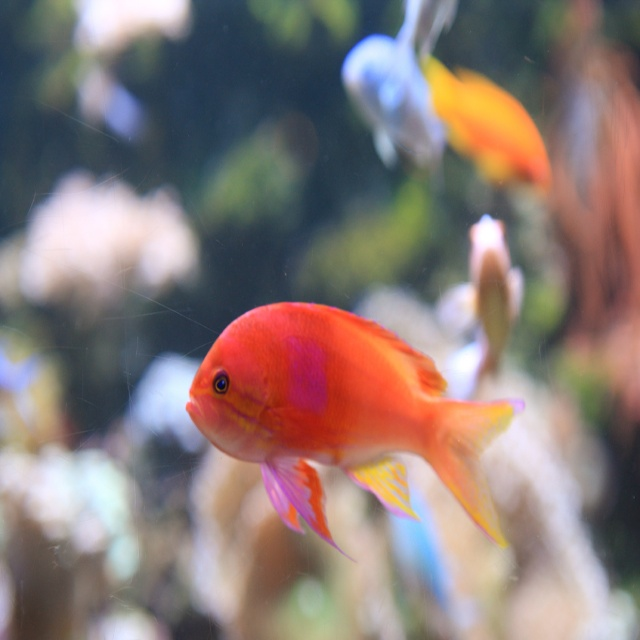Goldfish: (184, 298, 513, 553)
